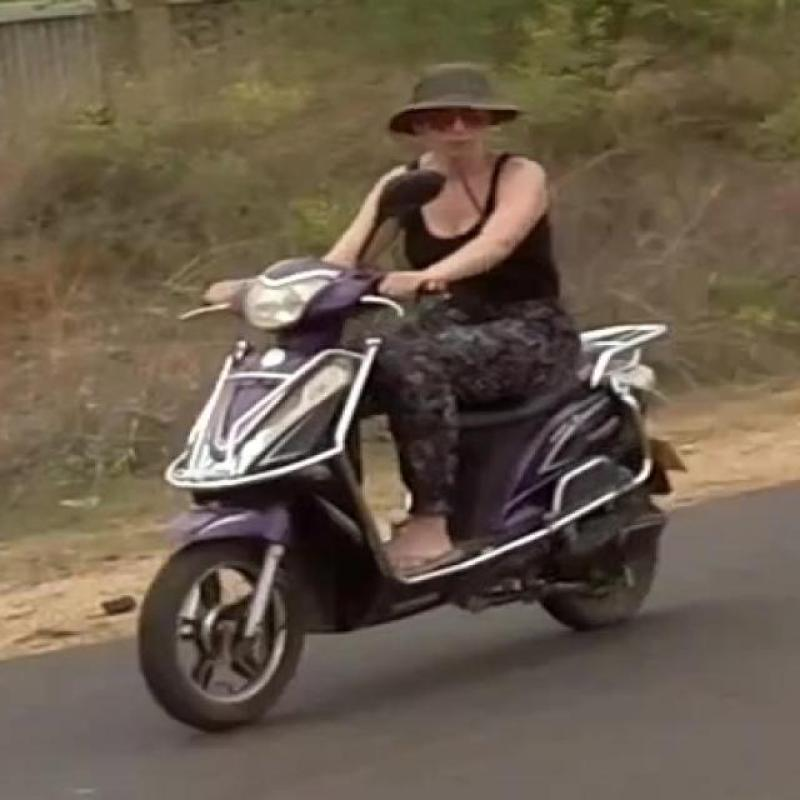nohelmet: (378, 44, 564, 160)
